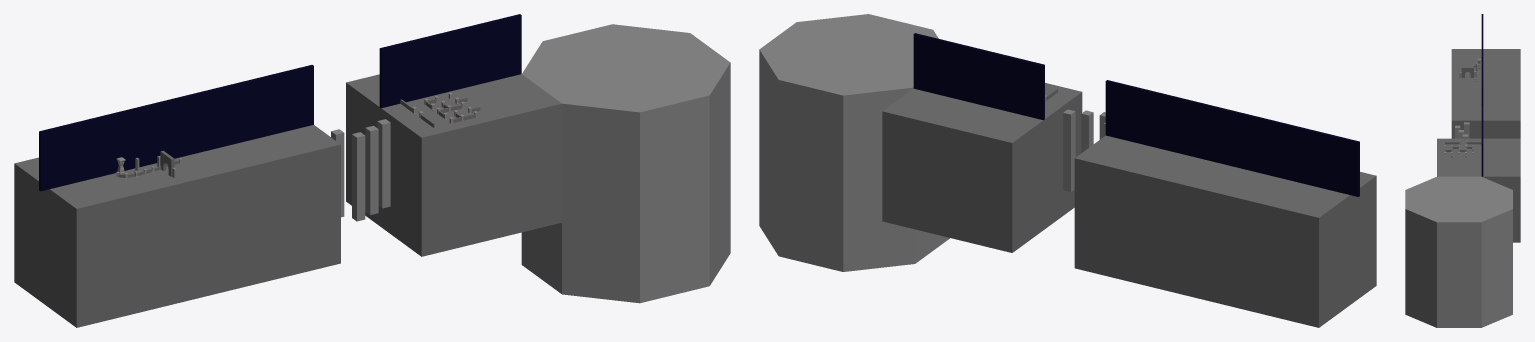
File: Dungeon.fbx_Export.fbx
3 views of the same model, side by side, from view 1: azimuth 30°, elevation 25°; view 2: azimuth 150°, elevation 25°; view 3: azimuth 270°, elevation 25° (orthographic). The views are drawn at different scales.
Visible parts, largest first — view 1: Cylinder, Plane, Plane.001, Cube, Cube.023, Cube.020, Cube.021, Cube.022; view 2: Plane, Cylinder, Plane.001, Cube, Cube.023, Cube.022, Cube.021; view 3: Cylinder, Plane, Plane.001, Cube, Cube.023, Cube.011, Cube.036.
Boxes of the visible parts, bbox=[...] form: Cylinder: bbox=[521, 24, 730, 303]; Plane: bbox=[14, 125, 340, 327]; Plane.001: bbox=[346, 74, 561, 256]; Cube: bbox=[39, 65, 313, 191]; Cube.023: bbox=[379, 14, 521, 108]; Cube.020: bbox=[352, 132, 365, 221]; Cube.021: bbox=[365, 125, 378, 214]; Cube.022: bbox=[377, 119, 390, 208]; Plane: bbox=[1074, 135, 1376, 327]; Cylinder: bbox=[759, 14, 949, 271]; Plane.001: bbox=[882, 83, 1082, 252]; Cube: bbox=[1105, 80, 1359, 196]; Cube.023: bbox=[913, 33, 1044, 120]; Cube.022: bbox=[1063, 109, 1075, 191]; Cube.021: bbox=[1081, 110, 1093, 152]; Cylinder: bbox=[1405, 176, 1512, 327]; Plane: bbox=[1451, 49, 1520, 138]; Plane.001: bbox=[1437, 138, 1520, 242]; Cube: bbox=[1481, 14, 1483, 105]; Cube.023: bbox=[1481, 106, 1483, 176]; Cube.011: bbox=[1461, 67, 1473, 77]; Cube.036: bbox=[1458, 145, 1473, 157].
Size of the model in its own units: 9811 by 3605 by 2725.
